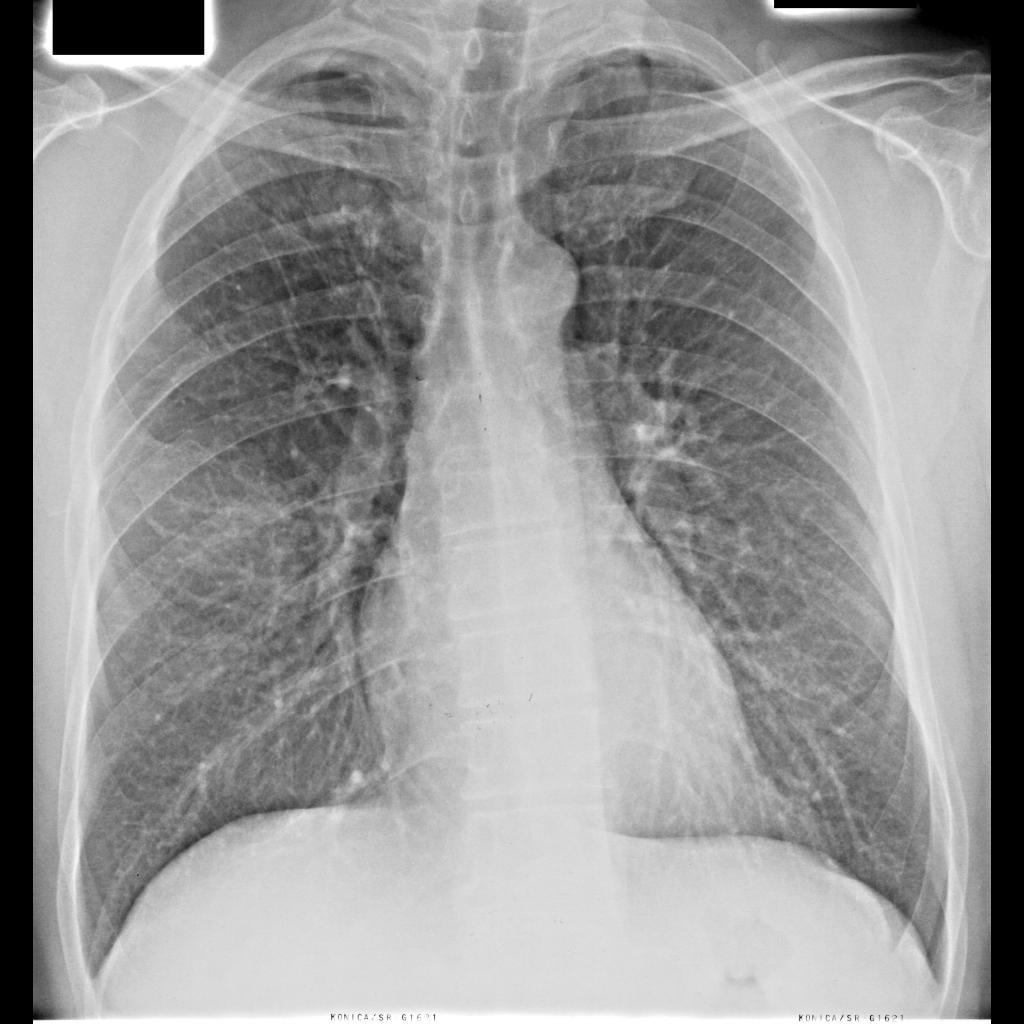Nodule: (328, 187, 360, 219)
